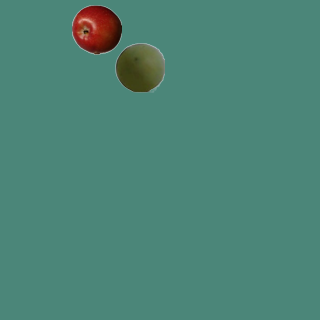Apple Braeburn: (71, 4, 121, 54)
Grape White 4: (114, 42, 164, 92)
